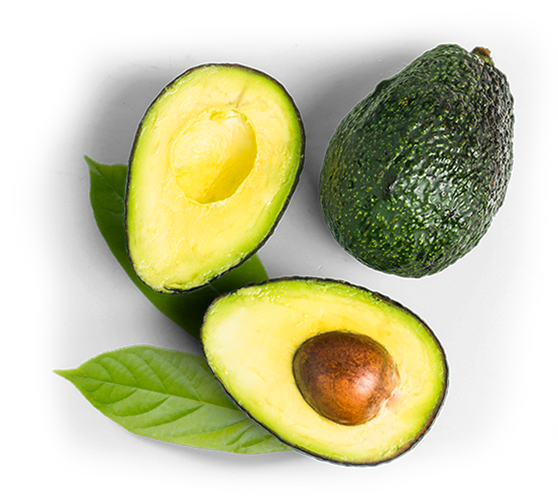avocado: (327, 48, 517, 281)
